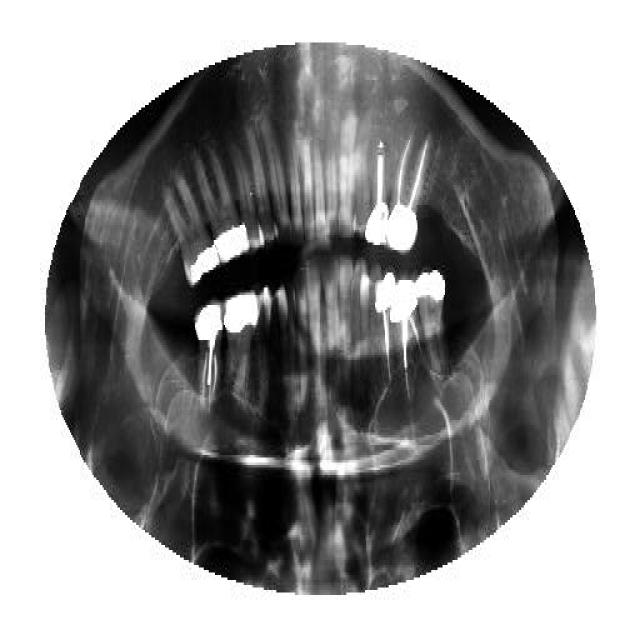Fillings: (164, 175, 220, 287), (196, 155, 250, 270), (225, 290, 260, 408), (416, 270, 444, 375)
Implant: (388, 135, 428, 253), (389, 277, 425, 405), (365, 118, 394, 248), (196, 300, 225, 415), (376, 272, 394, 388)
